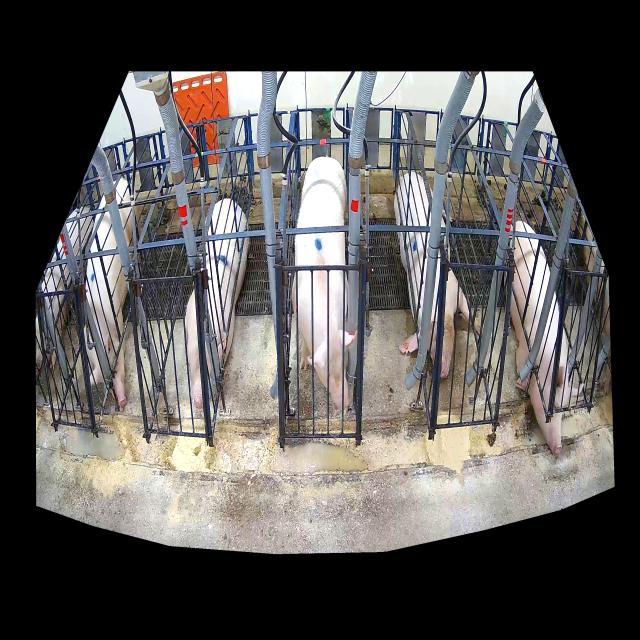pig: (291, 157, 355, 412), (511, 220, 578, 455), (394, 172, 469, 378), (185, 198, 249, 409), (85, 178, 134, 407)
